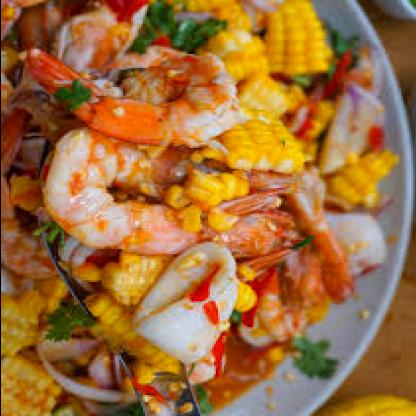Yum: (2, 1, 366, 408)
